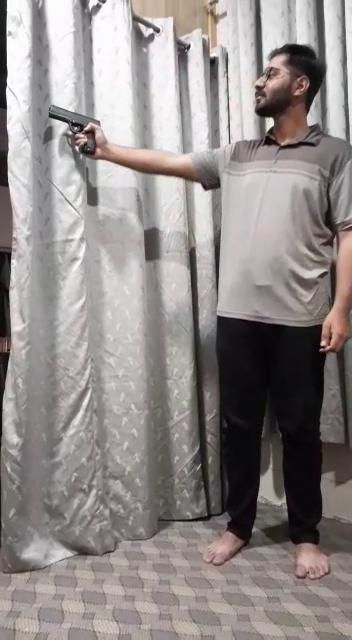criminal: (45, 40, 352, 581)
weapon: (45, 99, 109, 160)
